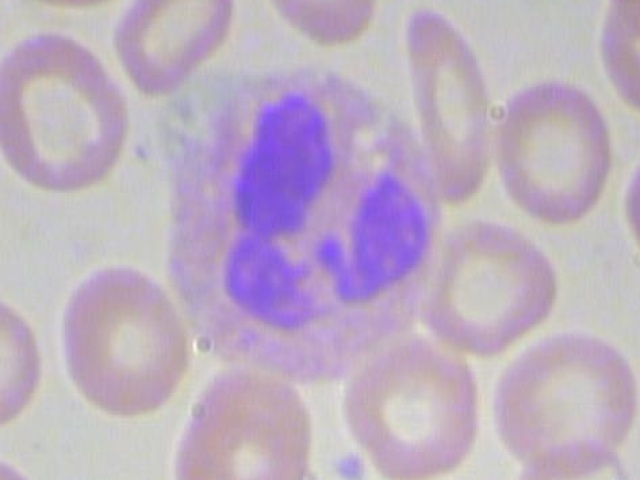Platelets: (322, 451, 371, 480)
RBC: (51, 243, 199, 426), (0, 24, 139, 204), (337, 334, 492, 480), (488, 322, 640, 469), (421, 209, 559, 361), (488, 69, 616, 224), (395, 6, 492, 204), (108, 0, 241, 98), (170, 387, 310, 480), (253, 0, 381, 54), (0, 283, 45, 432), (510, 431, 636, 480), (618, 118, 640, 271), (4, 0, 143, 14), (603, 0, 640, 40), (0, 453, 51, 480)
WBC: (132, 65, 462, 386)
